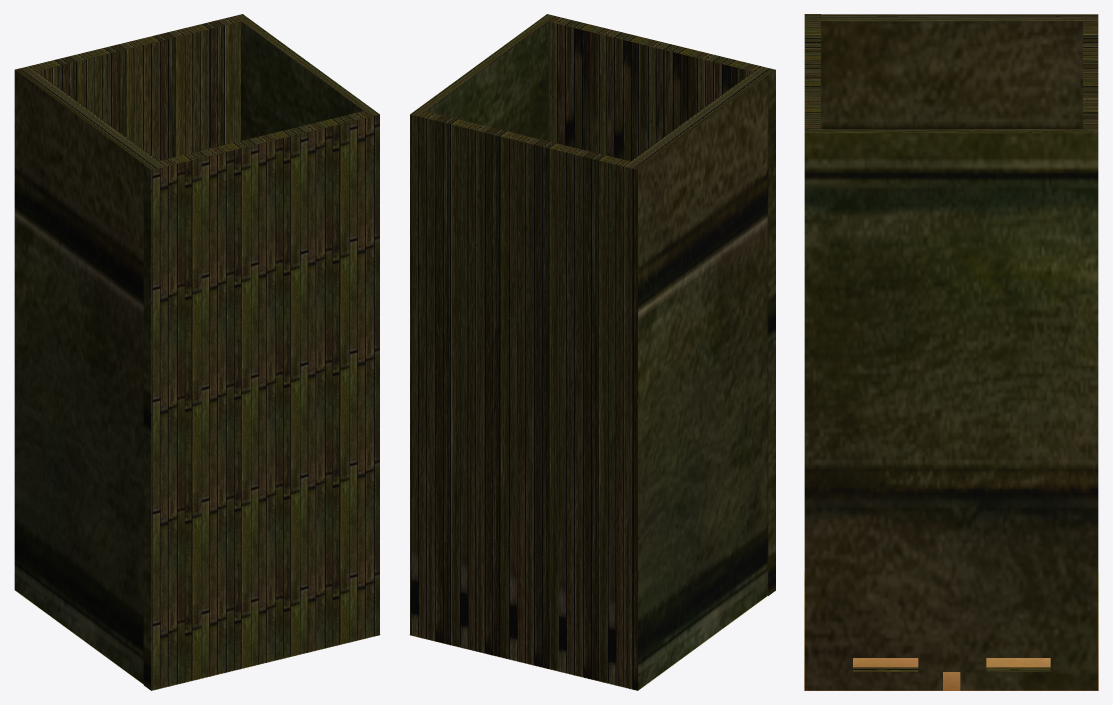
Rendered from Grave.fbx.
3 views of the same model, side by side, from view 1: azimuth 30°, elevation 25°; view 2: azimuth 150°, elevation 25°; view 3: azimuth 270°, elevation 25° (orthographic). The views are drawn at different scales.
Visible parts, largest first — view 1: Cube; view 2: Cube; view 3: Cube, Plane.
Part boxes in pixels (left/top/right/bottom): Cube: left=14, top=14, right=379, bottom=690; Cube: left=410, top=14, right=775, bottom=690; Cube: left=804, top=14, right=1098, bottom=690; Plane: left=804, top=571, right=1098, bottom=690.
Size of the model in its own units: 3055 by 6629 by 3172.
2 materials, 2 textured.
